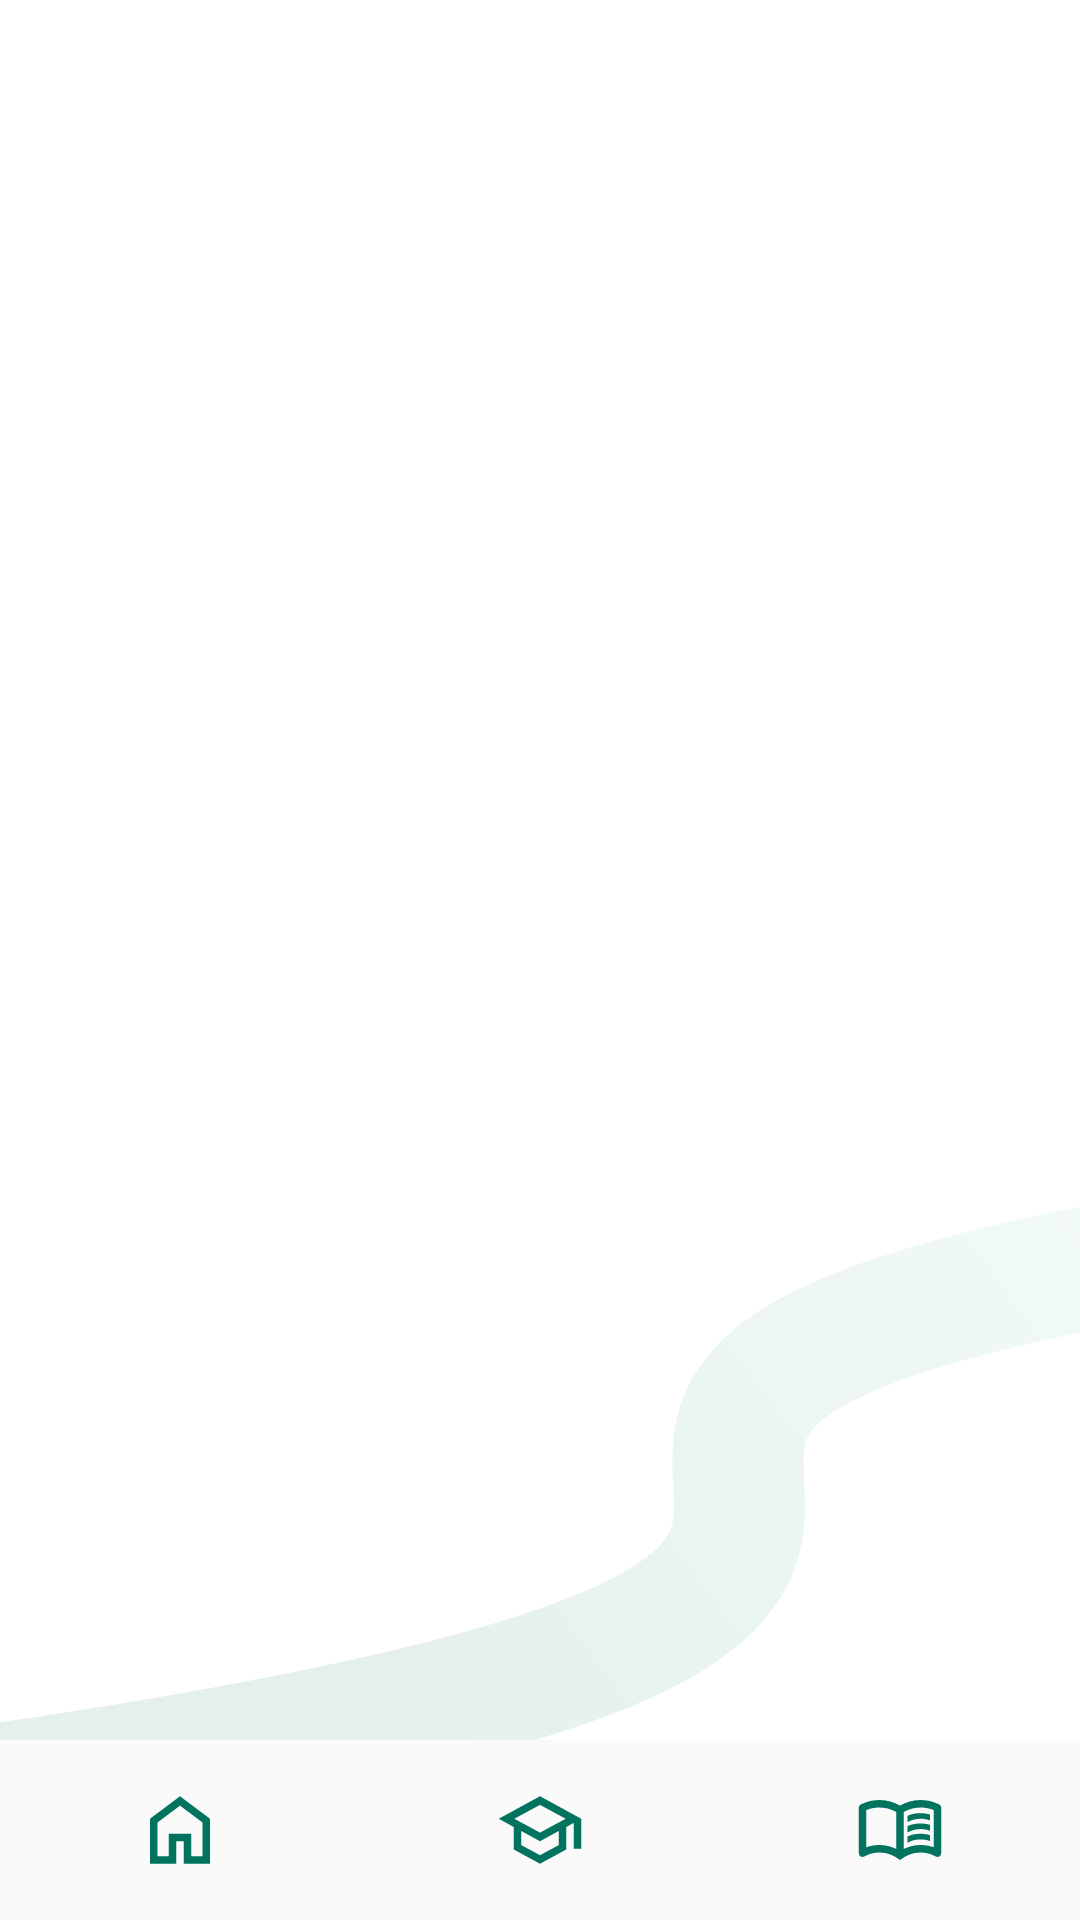

Point at icon controls on the screen. Image size 1080 × 1920, points as [x,y].
Aulas: [540,1830]
Inicio: [180,1830]
Materiais: [900,1830]
